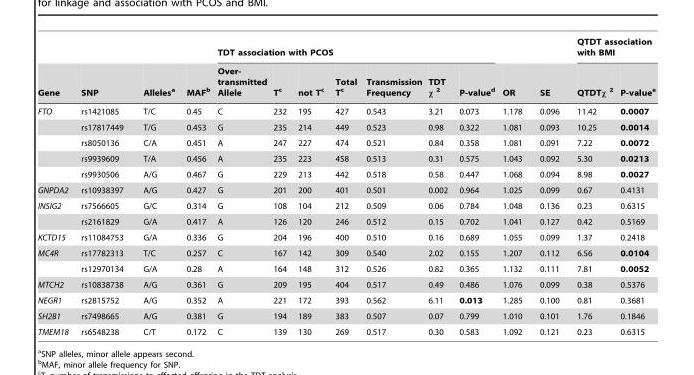table: (37, 37, 654, 336)
table column: (360, 37, 424, 336), (74, 37, 132, 336), (213, 37, 269, 336), (567, 37, 615, 336), (132, 37, 179, 336), (452, 37, 498, 336), (615, 37, 654, 336), (37, 37, 74, 336), (291, 37, 328, 336), (530, 37, 567, 336), (179, 37, 213, 336), (328, 37, 360, 336), (498, 37, 530, 336), (424, 37, 452, 336), (269, 37, 291, 336)
table column header: (37, 37, 654, 101)
table row: (37, 61, 654, 101), (37, 37, 654, 61), (37, 101, 654, 119), (37, 134, 654, 150), (37, 150, 654, 166), (37, 166, 654, 182), (37, 197, 654, 213), (37, 213, 654, 229), (37, 229, 654, 245), (37, 260, 654, 276), (37, 276, 654, 292), (37, 292, 654, 308), (37, 119, 654, 134), (37, 182, 654, 197), (37, 245, 654, 260), (37, 308, 654, 323), (37, 323, 654, 336)
table spanning cell: (213, 37, 498, 61), (74, 37, 132, 101), (132, 37, 179, 101), (37, 101, 74, 182), (37, 37, 74, 101), (530, 37, 567, 101), (179, 37, 213, 101), (567, 37, 654, 61), (498, 37, 530, 101), (37, 197, 74, 229), (37, 245, 74, 276)
